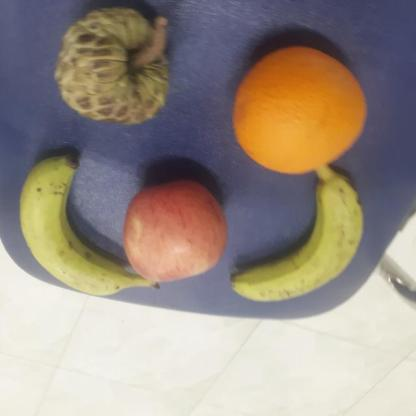annona: (53, 8, 171, 126)
apple: (122, 181, 226, 284)
banana: (19, 152, 157, 296), (230, 176, 364, 302)
orange: (232, 51, 368, 175)
